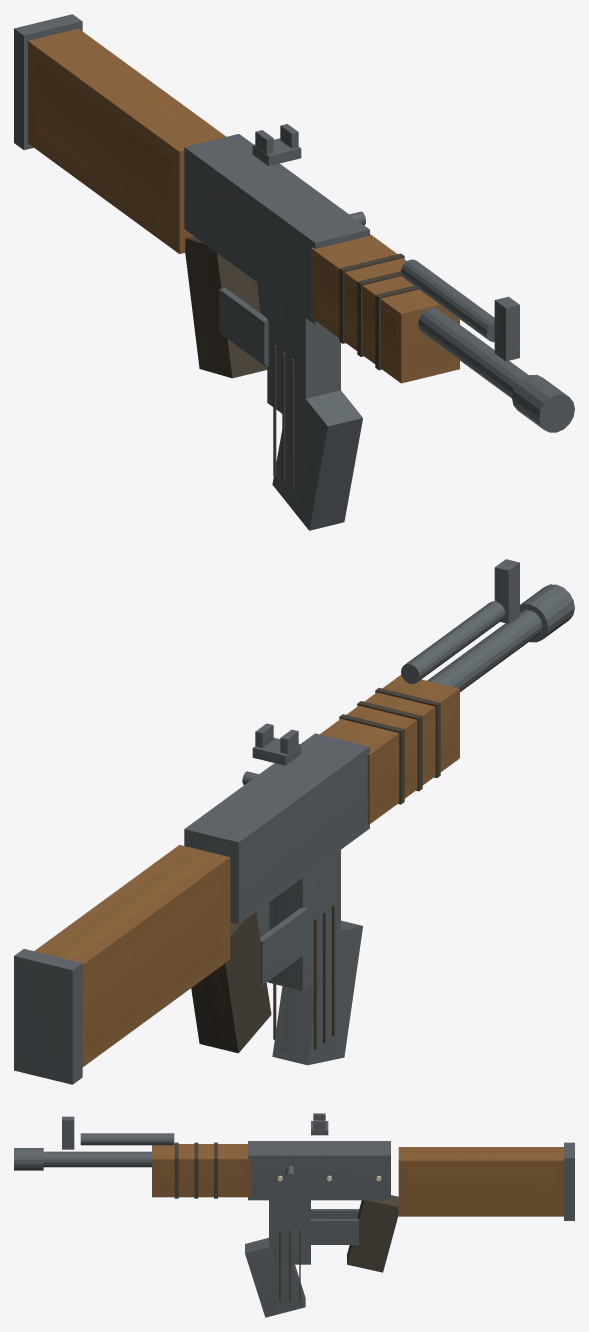
The model's file is AutomaticRifle.glb.
3 renders of one model, top to bottom at view 1: azimuth 30°, elevation 25°; view 2: azimuth 150°, elevation 25°; view 3: azimuth 270°, elevation 25°, orthographic. The views are drawn at different scales.
Visible parts, largest first — view 1: LOD1_GunSteel, LOD1_RifleWood, LOD0_GunSteel, LOD0_RifleWood, LOD1_GunGrip, LOD0_GunGrip; view 2: LOD0_GunSteel, LOD1_GunSteel, LOD0_RifleWood, LOD1_RifleWood, LOD0_GunGrip, LOD1_GunGrip; view 3: LOD0_GunSteel, LOD1_RifleWood, LOD1_GunSteel, LOD0_RifleWood, LOD0_GunGrip, LOD1_GunGrip.
Part boxes in pixels (bbox=[...]): LOD1_GunSteel: bbox=[14, 14, 573, 530]; LOD1_RifleWood: bbox=[28, 28, 459, 383]; LOD0_GunSteel: bbox=[15, 16, 574, 520]; LOD0_RifleWood: bbox=[34, 36, 450, 370]; LOD1_GunGrip: bbox=[185, 236, 418, 378]; LOD0_GunGrip: bbox=[189, 248, 415, 489]; LOD0_GunSteel: bbox=[16, 561, 574, 1081]; LOD1_GunSteel: bbox=[14, 559, 546, 1084]; LOD0_RifleWood: bbox=[48, 681, 454, 1050]; LOD1_RifleWood: bbox=[34, 675, 459, 1066]; LOD0_GunGrip: bbox=[198, 689, 439, 1049]; LOD1_GunGrip: bbox=[191, 688, 440, 1053]; LOD0_GunSteel: bbox=[14, 1113, 573, 1313]; LOD1_RifleWood: bbox=[152, 1144, 563, 1216]; LOD1_GunSteel: bbox=[62, 1113, 574, 1317]; LOD0_RifleWood: bbox=[158, 1150, 557, 1207]; LOD0_GunGrip: bbox=[175, 1143, 395, 1301]; LOD1_GunGrip: bbox=[174, 1142, 398, 1272].
Bounding box in the file's own units: 0.114 × 0.4378 × 1.14.
